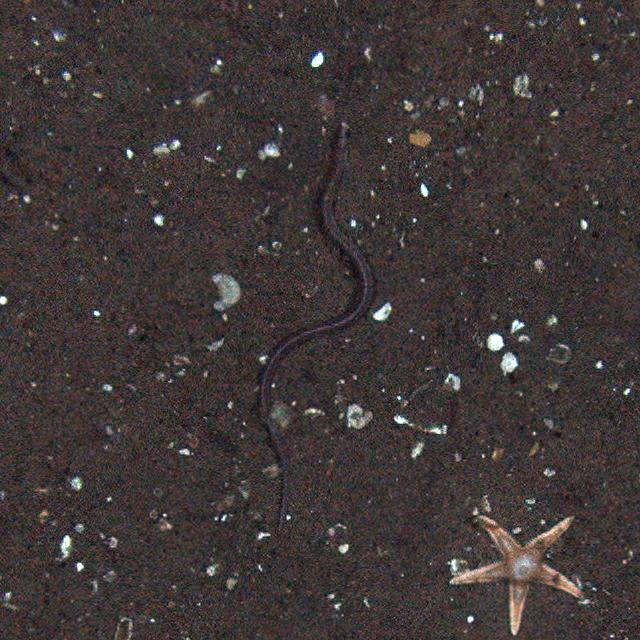eel: (256, 116, 381, 530)
